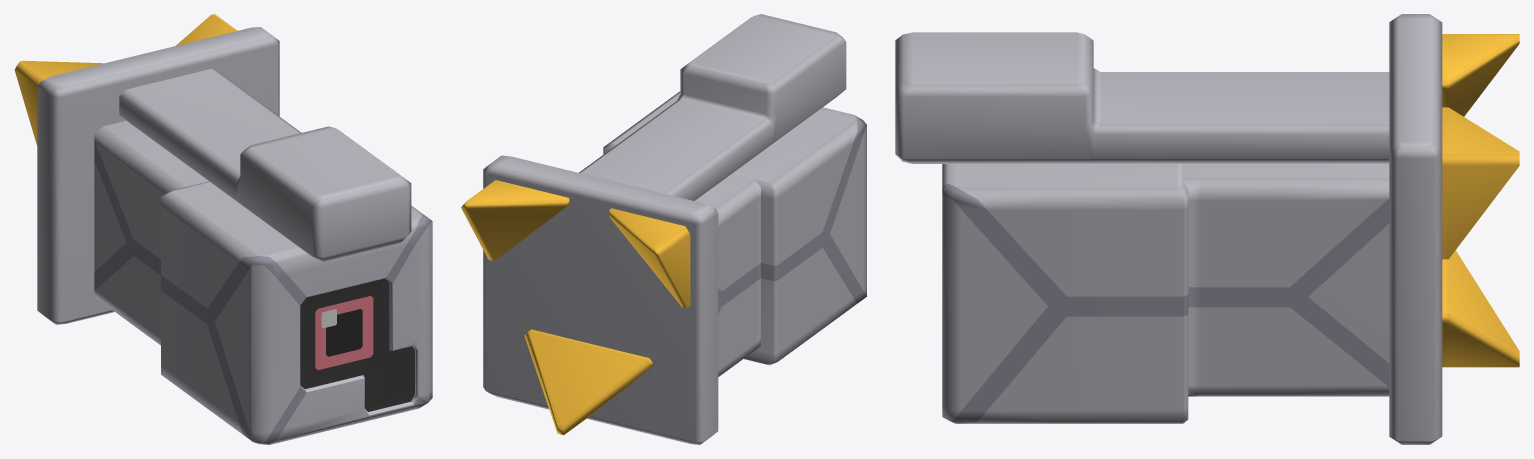
The model's file is model_shiny.obj.
The picture shows the model from 3 angles, left to right: view 1: azimuth 30°, elevation 25°; view 2: azimuth 150°, elevation 25°; view 3: azimuth 270°, elevation 25°; orthographic projection. The views are drawn at different scales.
Visible parts, largest first — view 1: 0374_beldum_shiny; view 2: 0374_beldum_shiny; view 3: 0374_beldum_shiny.
Boxes of the visible parts, <box> form: 0374_beldum_shiny: <box>14,14,432,444</box>; 0374_beldum_shiny: <box>461,14,866,444</box>; 0374_beldum_shiny: <box>895,14,1519,444</box>.
Bounding box in the file's own units: 1.18 × 1.26 × 2.22.
1 material, 1 textured.
